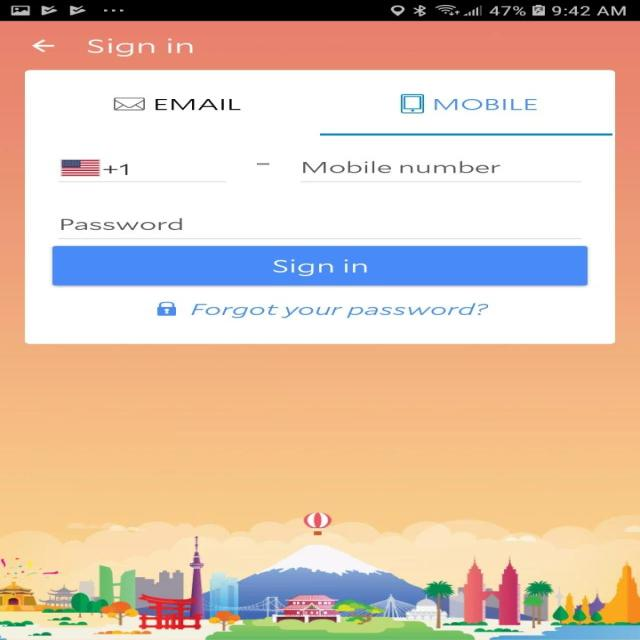BackgroundImage: (0, 21, 639, 639)
EditText: (58, 218, 580, 239), (299, 160, 582, 182), (58, 159, 226, 182)
Icon: (114, 97, 145, 111), (31, 39, 54, 53), (156, 301, 176, 316)
Image: (0, 512, 639, 640), (61, 159, 100, 177), (400, 94, 424, 114)
Text: (190, 302, 488, 318), (302, 160, 500, 173), (87, 38, 193, 57), (434, 98, 537, 110), (155, 98, 241, 110), (102, 163, 128, 176)
TextButton: (52, 246, 588, 286)
